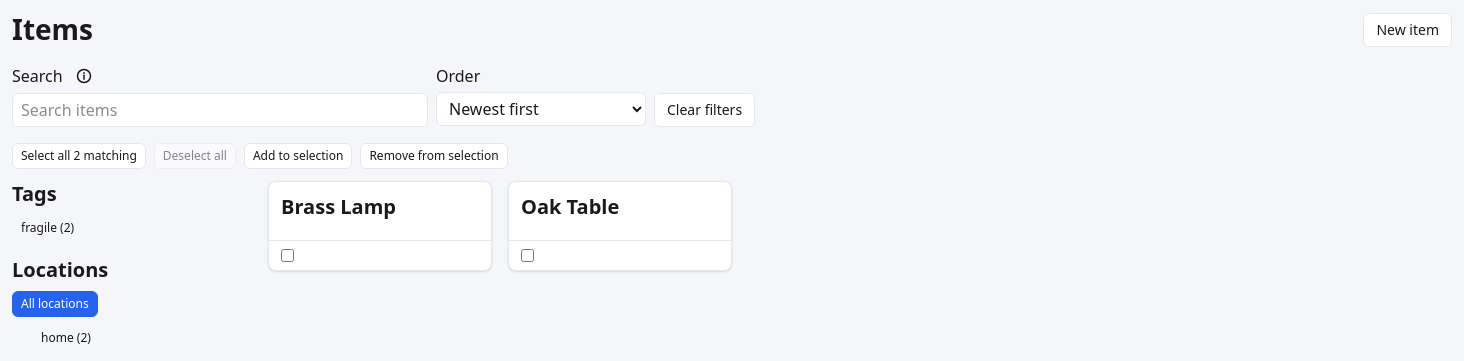
Test case: selecting items on the catalog › toggles from anywhere in the card footer, not just the box
Click the 3rd label named "Select Brass Lamp" at (380, 255), box [269,240,491,270]
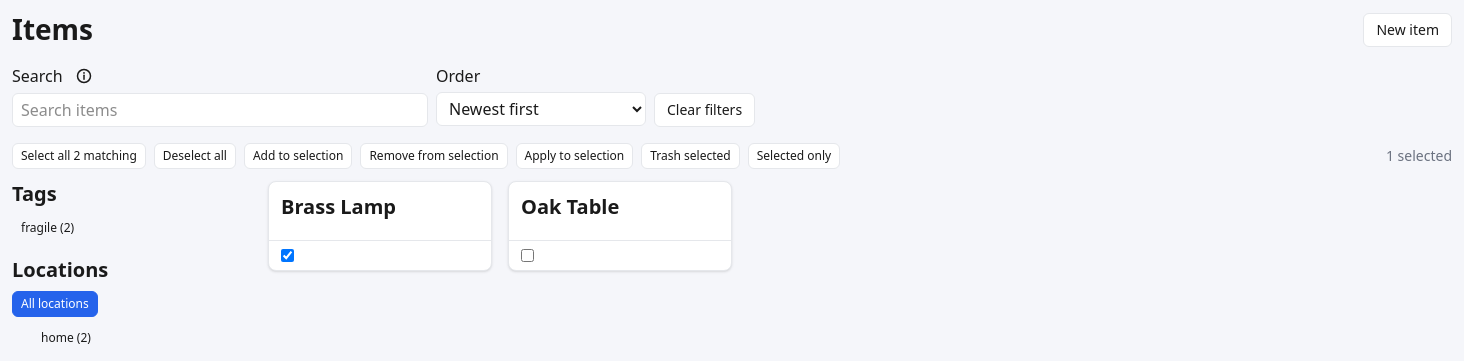
Expected: the text "1 selected" is shown, [1386,146,1452,166]
